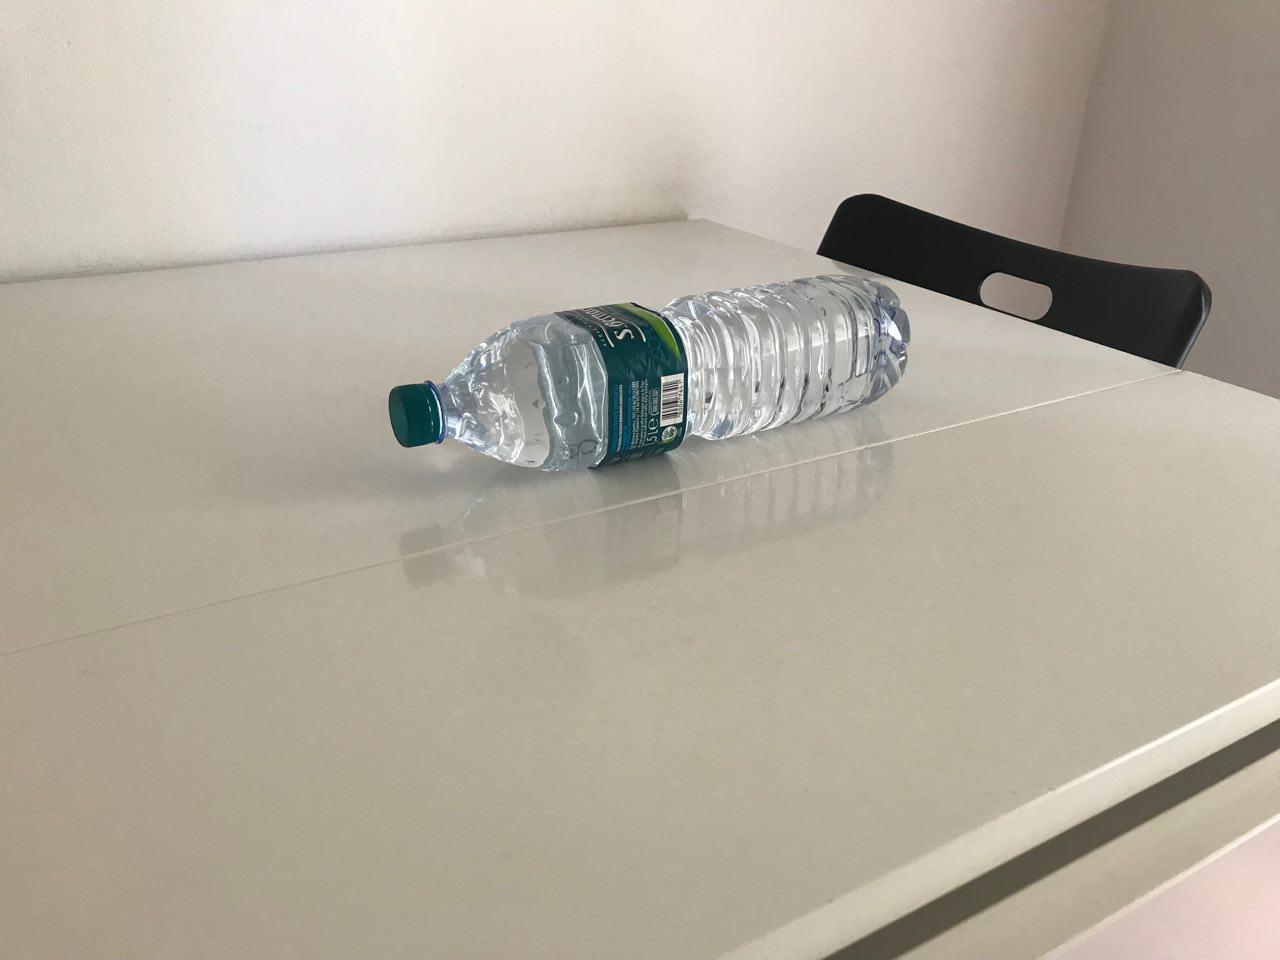san_bernardo: (387, 272, 912, 473)
